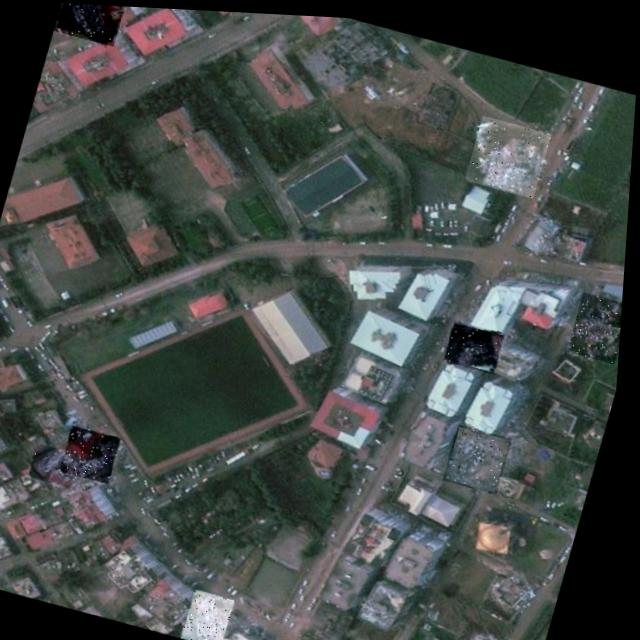Rubble: (467, 108, 555, 193), (448, 417, 519, 488), (570, 284, 626, 356), (65, 422, 128, 482), (446, 313, 510, 368), (53, 2, 125, 44), (189, 586, 243, 640), (34, 440, 88, 486)
